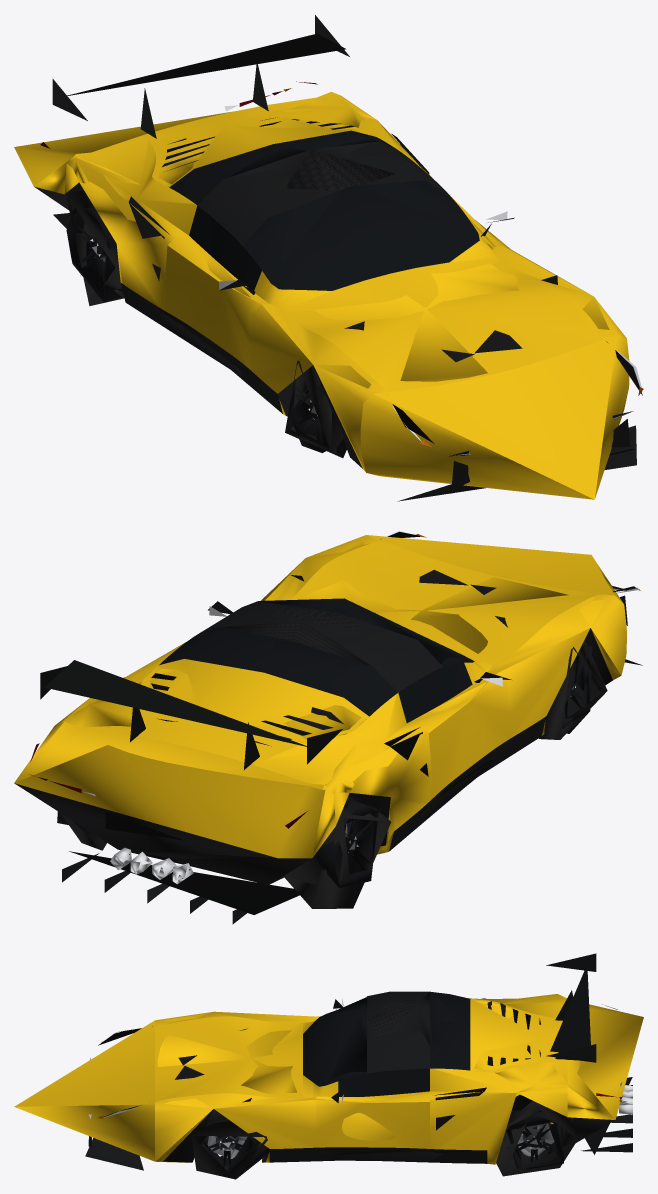
File: CAR_Supercar_LOD3.fbx
3 renders of one model, top to bottom at view 1: azimuth 30°, elevation 25°; view 2: azimuth 150°, elevation 25°; view 3: azimuth 270°, elevation 25°, orthographic. The views are drawn at different scales.
Parts seen in each view (by area): view 1: CAR_LOD3_Body; view 2: CAR_LOD3_Body; view 3: CAR_LOD3_Body.
Part boxes in pixels (x1=…): CAR_LOD3_Body: x1=14, y1=15, x2=643, y2=501; CAR_LOD3_Body: x1=14, y1=530, x2=642, y2=924; CAR_LOD3_Body: x1=14, y1=953, x2=643, y2=1179.
Bounding box in the file's own units: 2.13 × 1.34 × 5.5.
19 materials, 2 textured.
